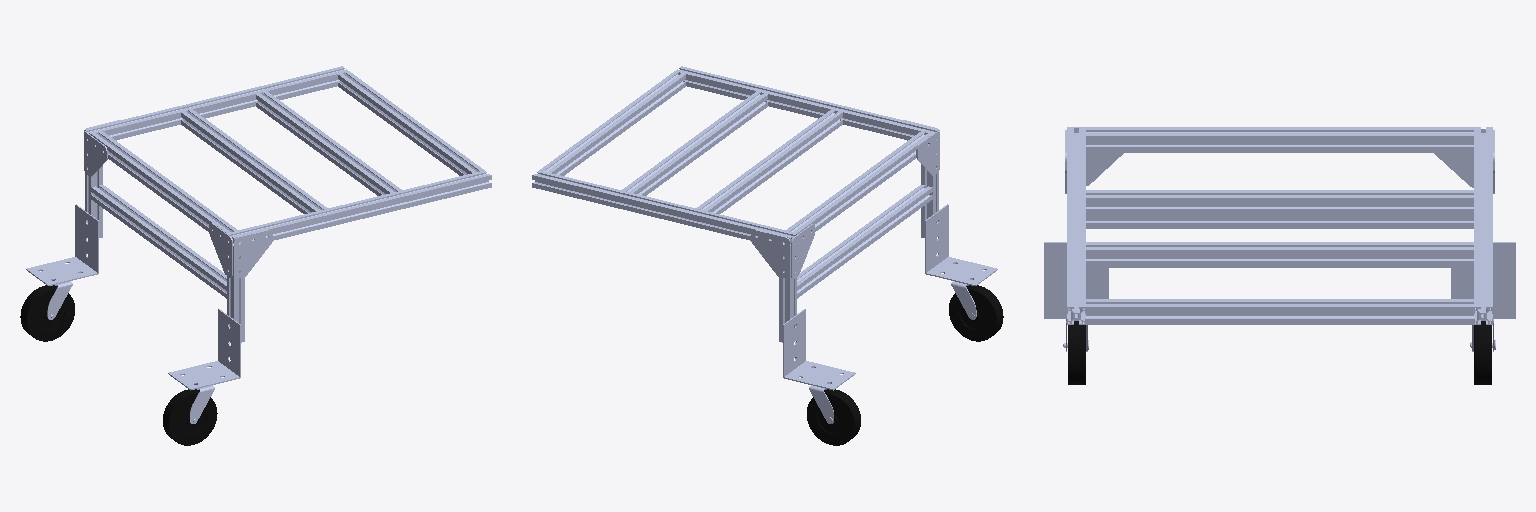
robot.urdf — One_wheel_frame_Assembly_v1:
<?xml version="1.0" encoding="utf-8"?>
<!-- This URDF was automatically created by SolidWorks to URDF Exporter! Originally created by [author] ([email redacted]) 
     Commit Version: 1.6.0-4-g7f85cfe  Build Version: 1.6.7995.38578
     For more information, please see http://wiki.ros.org/sw_urdf_exporter -->
<robot
  name="One_wheel_frame_Assembly_v1">
  <link
    name="chassis_link">
    <inertial>
      <origin
        xyz="-0.36556 0.0049205 -0.07701"
        rpy="0 0 0" />
      <mass
        value="2.0686" />
      <inertia
        ixx="0.034031"
        ixy="9.0833E-08"
        ixz="-0.00017281"
        iyy="0.018983"
        iyz="-9.0884E-08"
        izz="0.050597" />
    </inertial>
    <visual>
      <origin
        xyz="0 0 0"
        rpy="0 0 0" />
      <geometry>
        <mesh
          filename="package://One_wheel_frame_Assembly_v1/meshes/chassis_link.STL" />
      </geometry>
      <material
        name="">
        <color
          rgba="0.79216 0.81961 0.93333 1" />
      </material>
    </visual>
    <collision>
      <origin
        xyz="0 0 0"
        rpy="0 0 0" />
      <geometry>
        <mesh
          filename="package://One_wheel_frame_Assembly_v1/meshes/chassis_link.STL" />
      </geometry>
    </collision>
  </link>
  <link
    name="chassis_wheel_left">
    <inertial>
      <origin
        xyz="-0.014 1.1102E-16 0"
        rpy="0 0 0" />
      <mass
        value="0.32038" />
      <inertia
        ixx="0.00065681"
        ixy="3.0857E-20"
        ixz="5.0633E-21"
        iyy="0.00034759"
        iyz="-4.0658E-20"
        izz="0.00034759" />
    </inertial>
    <visual>
      <origin
        xyz="0 0 0"
        rpy="0 0 0" />
      <geometry>
        <mesh
          filename="package://One_wheel_frame_Assembly_v1/meshes/chassis_wheel_left.STL" />
      </geometry>
      <material
        name="">
        <color
          rgba="0.1098 0.1098 0.1098 1" />
      </material>
    </visual>
    <collision>
      <origin
        xyz="0 0 0"
        rpy="0 0 0" />
      <geometry>
        <mesh
          filename="package://One_wheel_frame_Assembly_v1/meshes/chassis_wheel_left.STL" />
      </geometry>
    </collision>
  </link>
  <joint
    name="chassis_wheel_left_joint"
    type="continuous">
    <origin
      xyz="-0.6824 0.30592 -0.4201"
      rpy="-2.5894 0 -1.5708" />
    <parent
      link="chassis_link" />
    <child
      link="chassis_wheel_left" />
    <axis
      xyz="1 0 0" />
  </joint>
  <link
    name="chassis_wheel_right">
    <inertial>
      <origin
        xyz="-0.014 2.2204E-16 -2.2204E-16"
        rpy="0 0 0" />
      <mass
        value="0.32038" />
      <inertia
        ixx="0.00065681"
        ixy="-1.6662E-19"
        ixz="1.9574E-19"
        iyy="0.00034759"
        iyz="2.7105E-20"
        izz="0.00034759" />
    </inertial>
    <visual>
      <origin
        xyz="0 0 0"
        rpy="0 0 0" />
      <geometry>
        <mesh
          filename="package://One_wheel_frame_Assembly_v1/meshes/chassis_wheel_right.STL" />
      </geometry>
      <material
        name="">
        <color
          rgba="0.1098 0.1098 0.1098 1" />
      </material>
    </visual>
    <collision>
      <origin
        xyz="0 0 0"
        rpy="0 0 0" />
      <geometry>
        <mesh
          filename="package://One_wheel_frame_Assembly_v1/meshes/chassis_wheel_right.STL" />
      </geometry>
    </collision>
  </link>
  <joint
    name="chassis_wheel_right_joint"
    type="continuous">
    <origin
      xyz="-0.6824 -0.32408 -0.4201"
      rpy="-2.2426 0 -1.5708" />
    <parent
      link="chassis_link" />
    <child
      link="chassis_wheel_right" />
    <axis
      xyz="1 0 0" />
  </joint>
</robot>

--- Render facts (derived) ---
The picture shows the robot from 3 angles, left to right: view 1: azimuth 30°, elevation 25°; view 2: azimuth 150°, elevation 25°; view 3: azimuth 270°, elevation 25°; orthographic projection.
Model One_wheel_frame_Assembly_v1 with 3 links and 2 joints (2 continuous), rooted at chassis_link, posed every joint at zero.
Visible links, largest first — view 1: chassis_link, chassis_wheel_right, chassis_wheel_left; view 2: chassis_link, chassis_wheel_left, chassis_wheel_right; view 3: chassis_link, chassis_wheel_left, chassis_wheel_right.
Link boxes in pixels (box(x1,y1,x2,y2)): chassis_link: box(26, 66, 491, 423); chassis_wheel_right: box(163, 389, 217, 445); chassis_wheel_left: box(20, 285, 74, 341); chassis_link: box(532, 66, 997, 423); chassis_wheel_left: box(807, 389, 860, 445); chassis_wheel_right: box(949, 285, 1003, 341); chassis_link: box(1044, 127, 1515, 351); chassis_wheel_left: box(1474, 321, 1491, 384); chassis_wheel_right: box(1068, 321, 1085, 384).
Bounding box of the posed robot: 0.8249 × 0.73 × 0.4827 m (x, y, z).
Meshes: 3 distinct files referenced, 3 mesh visuals loaded (3 binary STL).